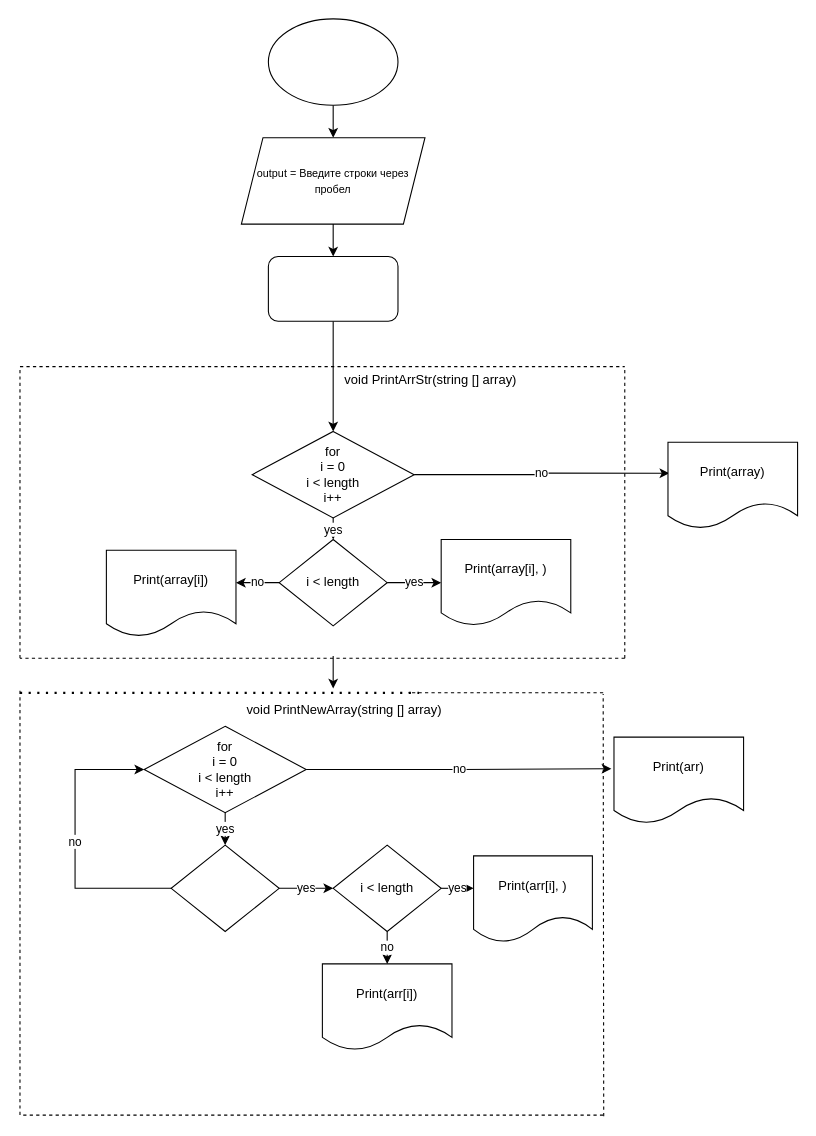
The diagram is 816 pixels wide and 1136 high, and some of its shapes have lost their labels. Here are the shapes that lost their labels. From the top down, the centre of each, then its label:
(x=332, y=61): Start
(x=332, y=288): input
(x=224, y=888): i < arr[i] <= 2
